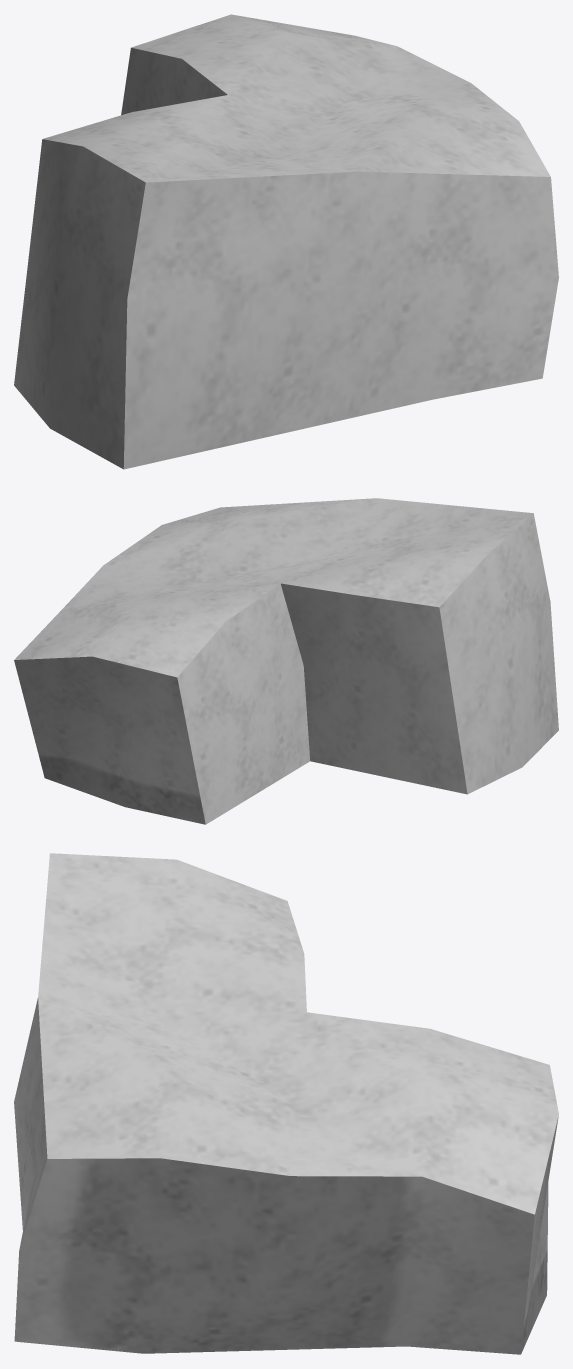
Rendered from ob-bigstone01_lod_01.fbx.
The picture shows the model from 3 angles, top to bottom: view 1: azimuth 30°, elevation 25°; view 2: azimuth 150°, elevation 25°; view 3: azimuth 270°, elevation 25°; orthographic projection. The views are drawn at different scales.
Parts seen in each view (by area): view 1: Sphere01; view 2: Sphere01; view 3: Sphere01.
Part boxes in pixels (x1,y1,x2,y2): Sphere01: [14, 14, 558, 469]; Sphere01: [14, 498, 558, 824]; Sphere01: [14, 853, 558, 1354].
Size of the model in its own units: 7.09 by 3.9 by 6.6.
